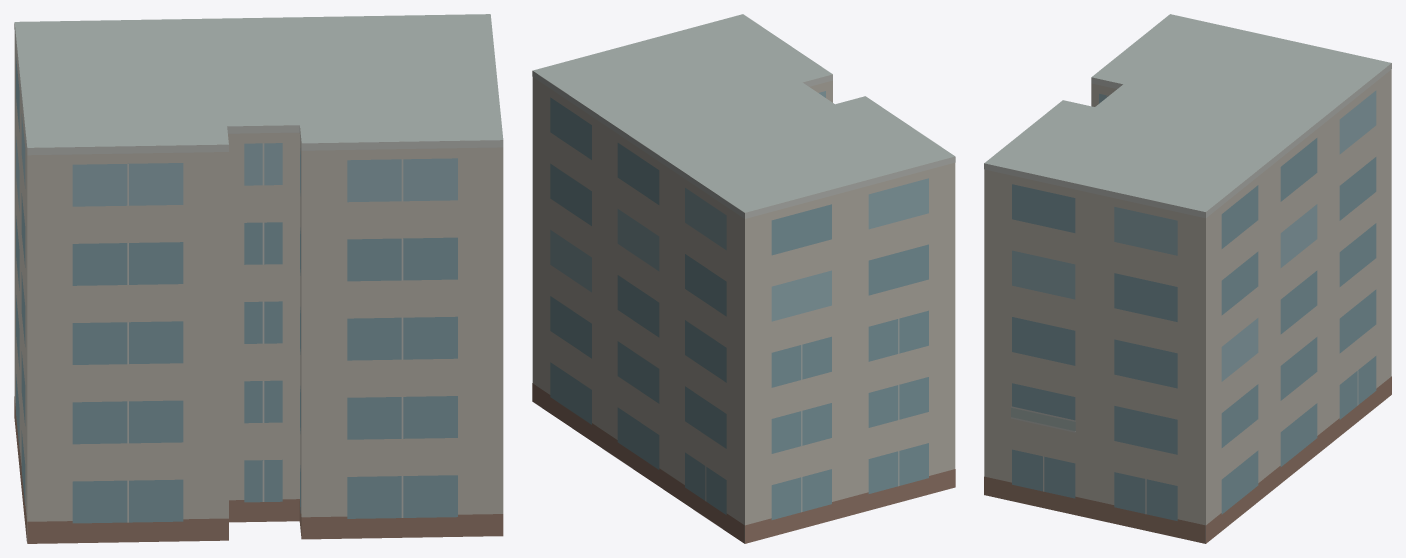
File: survey-upis-32934388.glb
3 views of the same model, side by side, from view 1: azimuth 30°, elevation 25°; view 2: azimuth 150°, elevation 25°; view 3: azimuth 270°, elevation 25° (orthographic). The views are drawn at different scales.
Visible parts, largest first — view 1: survey-upis-32934388.tmp; view 2: survey-upis-32934388.tmp; view 3: survey-upis-32934388.tmp.
Part boxes in pixels (x1=…): survey-upis-32934388.tmp: x1=14, y1=14, x2=503, y2=543; survey-upis-32934388.tmp: x1=532, y1=14, x2=955, y2=543; survey-upis-32934388.tmp: x1=984, y1=14, x2=1391, y2=543.
Size of the model in its own units: 16.92 by 13.2 by 14.71.
